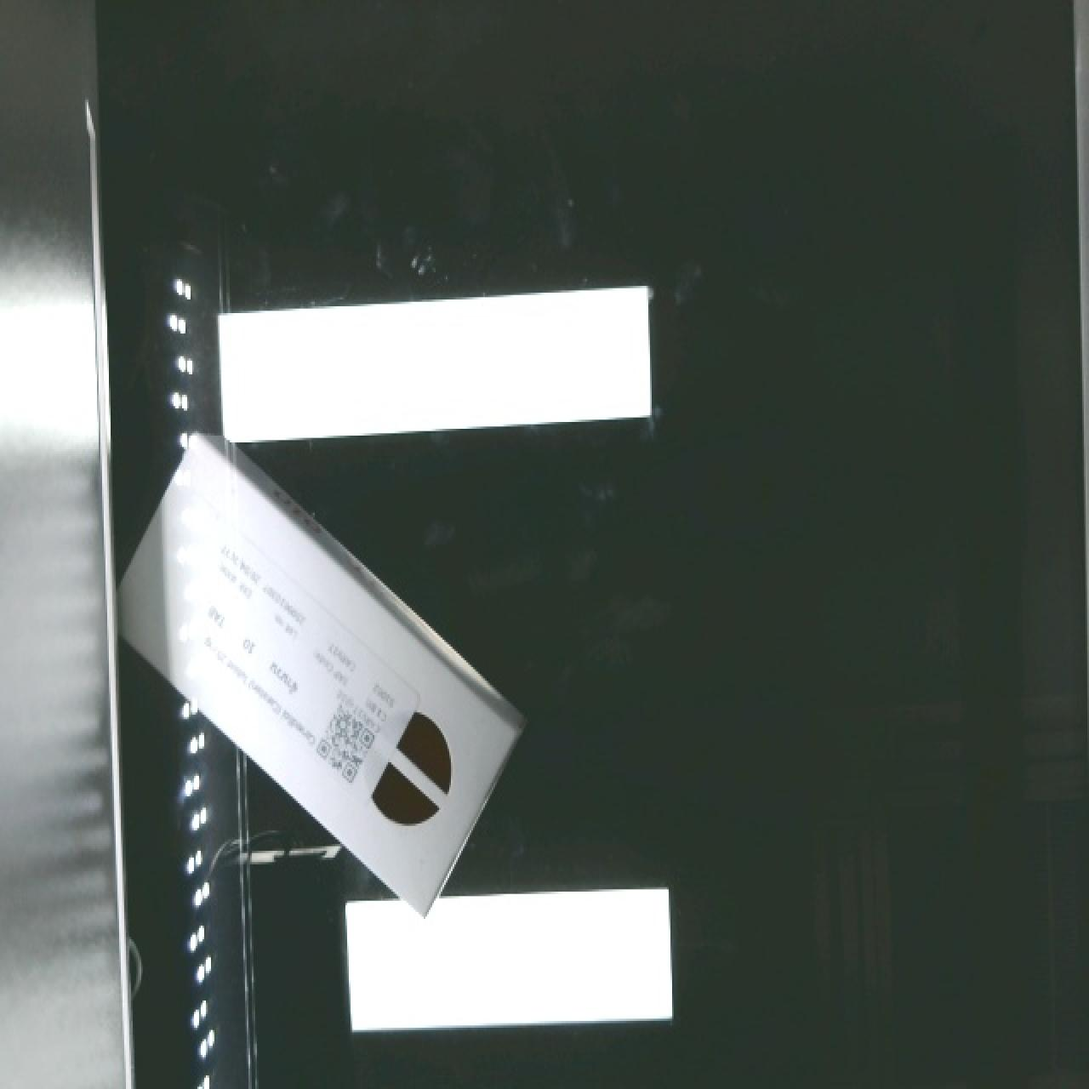qr_code: (299, 690, 400, 795)
